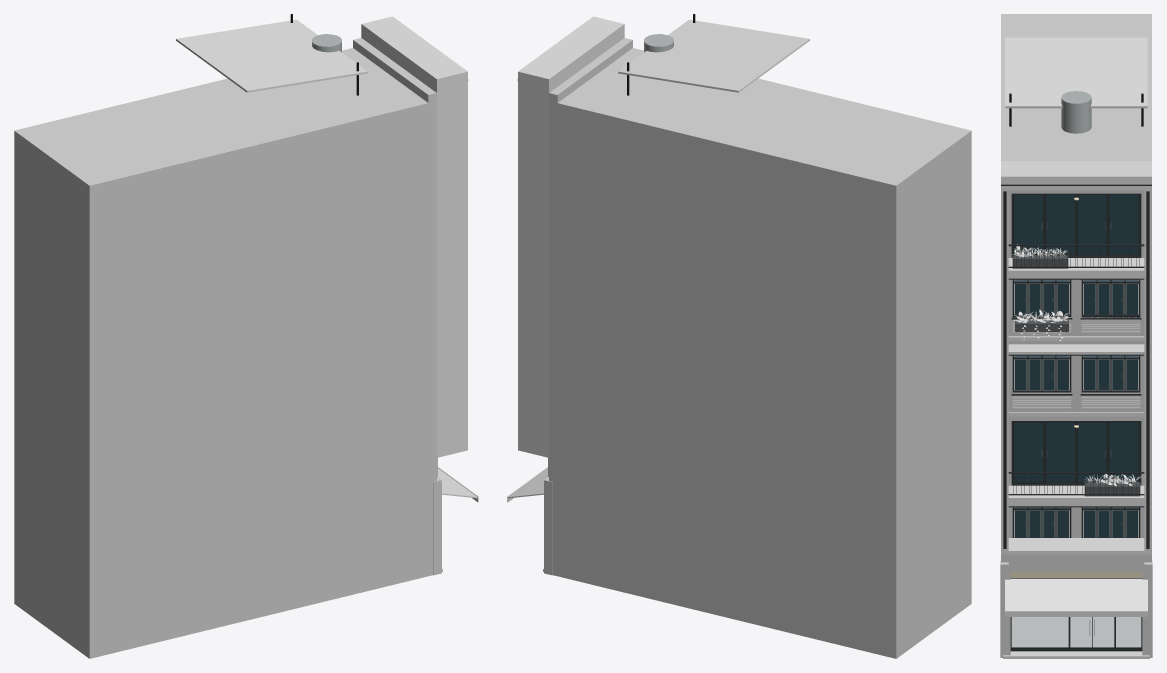
The model's file is OW_Mau_NhaPho_6_0_3_B.fbx.
3 renders of one model, left to right at view 1: azimuth 30°, elevation 25°; view 2: azimuth 150°, elevation 25°; view 3: azimuth 270°, elevation 25°, orthographic.
Visible parts, largest first — view 1: OW_NhaPho_9031; view 2: OW_NhaPho_9031; view 3: OW_NhaPho_9031, OW_MatTienKinh.
Part boxes in pixels (x1,y1,x2,y2): OW_NhaPho_9031: (14, 14, 478, 658); OW_NhaPho_9031: (507, 14, 971, 658); OW_NhaPho_9031: (1000, 14, 1152, 658); OW_MatTienKinh: (1010, 571, 1142, 651).
Bounding box in the file's own units: 17.77 × 22.91 × 6.
